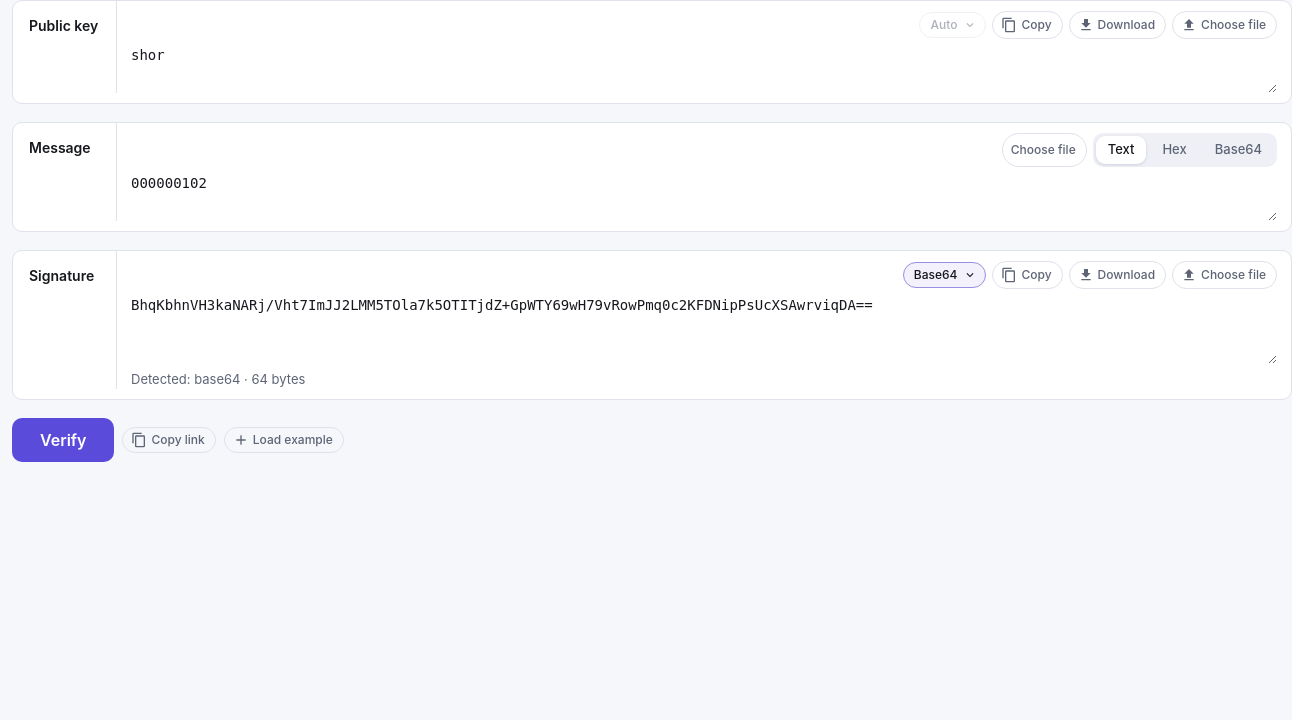
Test case: FormVerify component › should report a malformed field and clear the message when it is edited
Click the button "Verify": point(63, 440) 12,418 -> 114,462
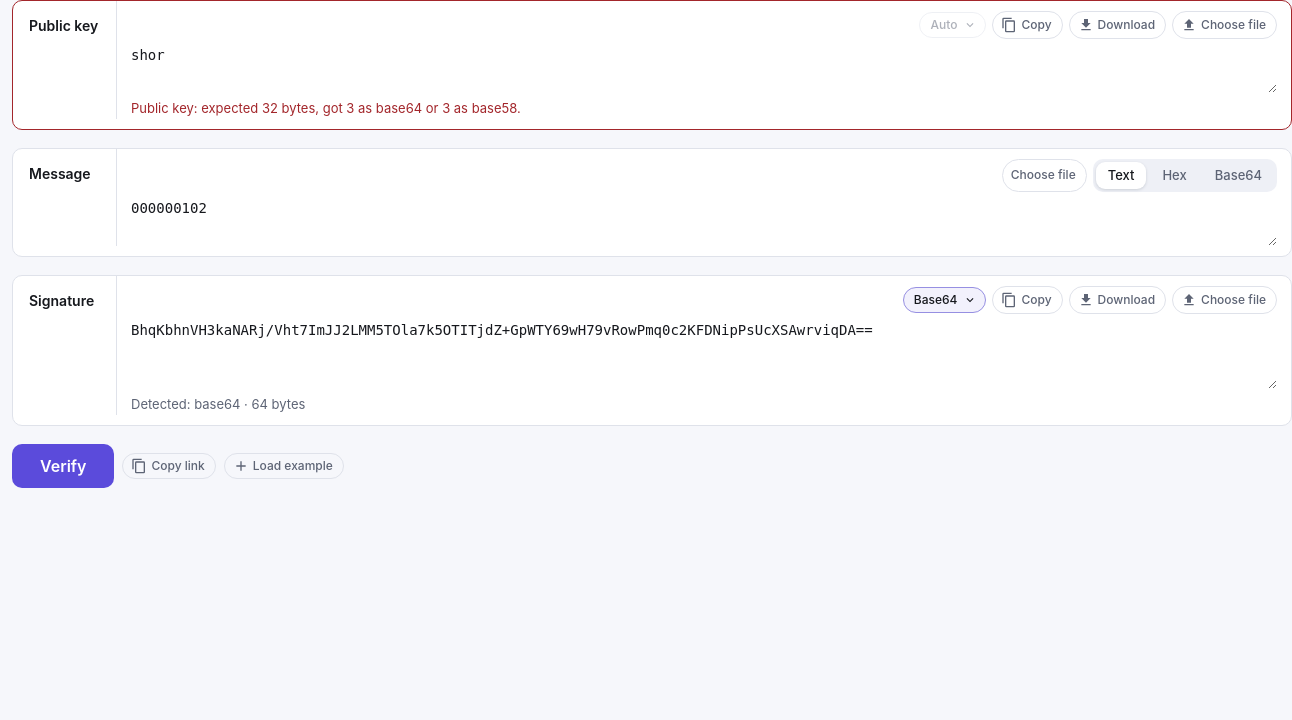
Check: the text "Public key: expected 32 bytes, got 3 as base64 or 3 as base58." is shown, box 131,100 -> 521,116
Replace the text in the text box labelled "Public key" with "u6xMxXSXi/dL9tWPS+qfxiOHMA6c2Czwh/k2hy/wx/U=": point(704, 66) 131,39 -> 1277,93
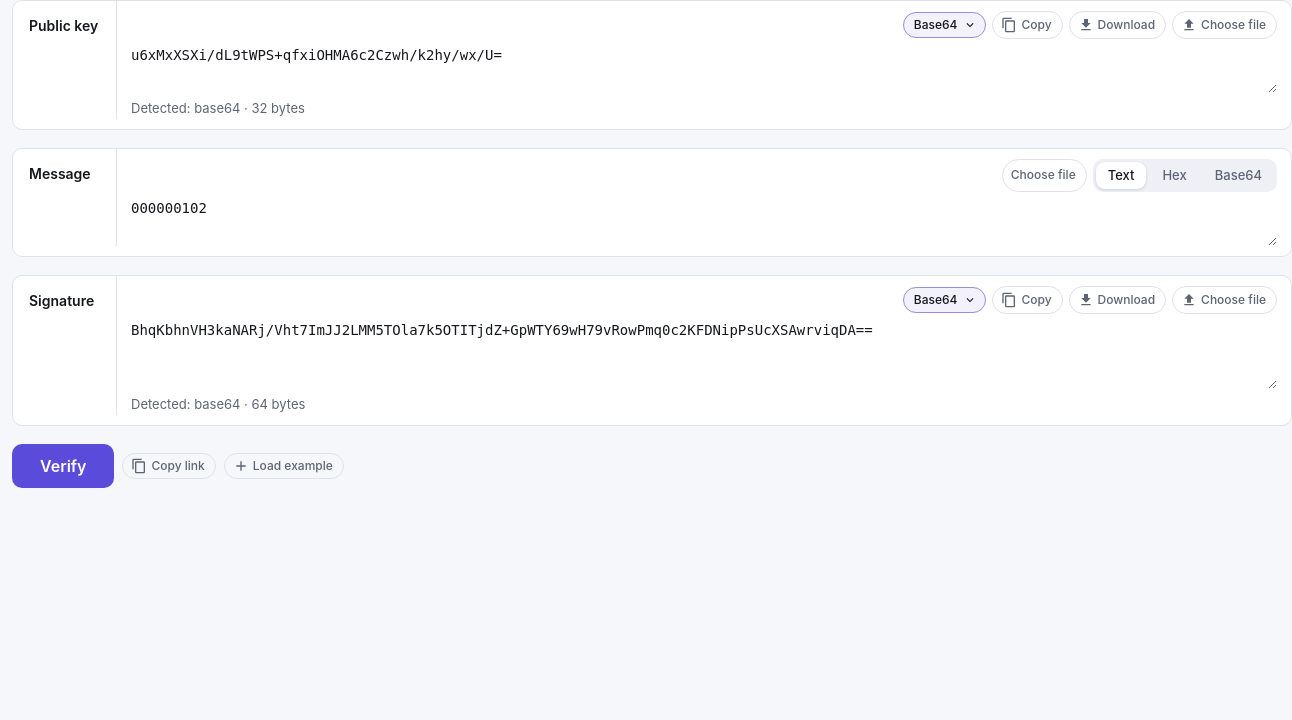
Check: the text "Public key: expected" is gone
